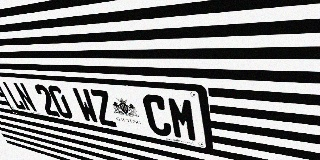0: (46, 85, 74, 119)
2: (33, 84, 60, 117)
C: (141, 94, 173, 138)
L: (1, 81, 27, 111)
M: (166, 96, 199, 143)
N: (12, 82, 38, 113)
W: (71, 87, 101, 124)
Z: (88, 89, 118, 128)
